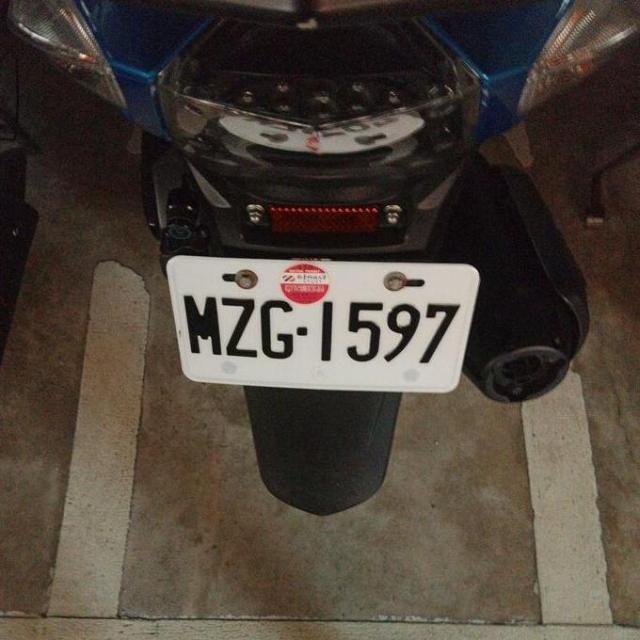W: (160, 242, 481, 401)
